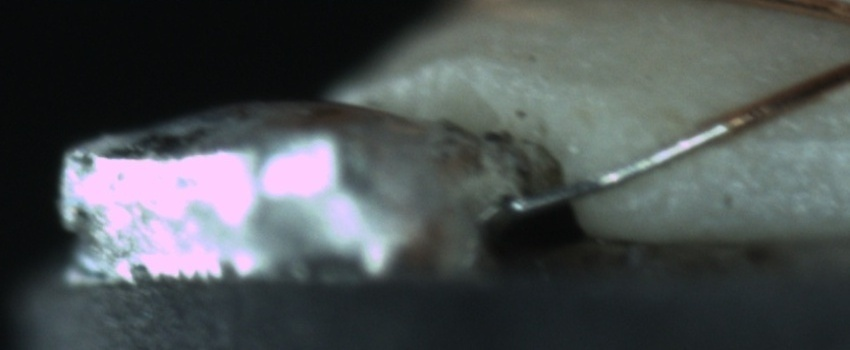DL: (749, 102, 850, 172)
TS: (505, 119, 729, 213)
